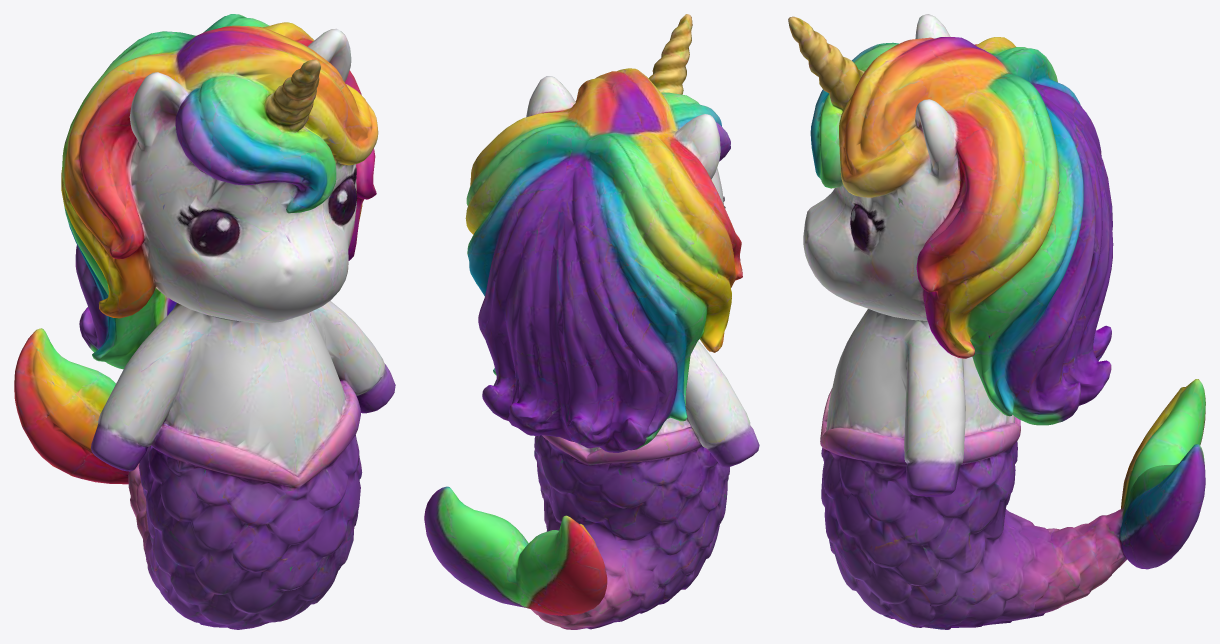
3 renders of one model, left to right at view 1: azimuth 30°, elevation 25°; view 2: azimuth 150°, elevation 25°; view 3: azimuth 270°, elevation 25°, orthographic. The views are drawn at different scales.
Bounding box in the file's own units: 0.979 × 1.9 × 1.22.
Materials: 1 (1 with a texture image).
